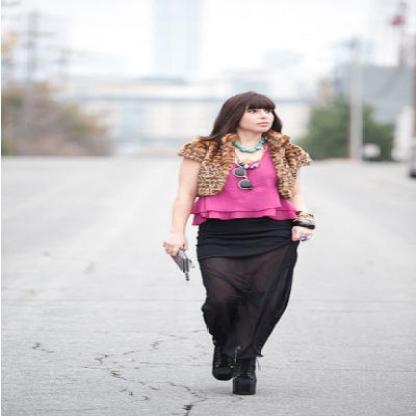jacket: (178, 128, 300, 201)
shirt: (188, 162, 306, 224)
shoe: (212, 354, 256, 394)
skirt: (192, 216, 311, 357)
